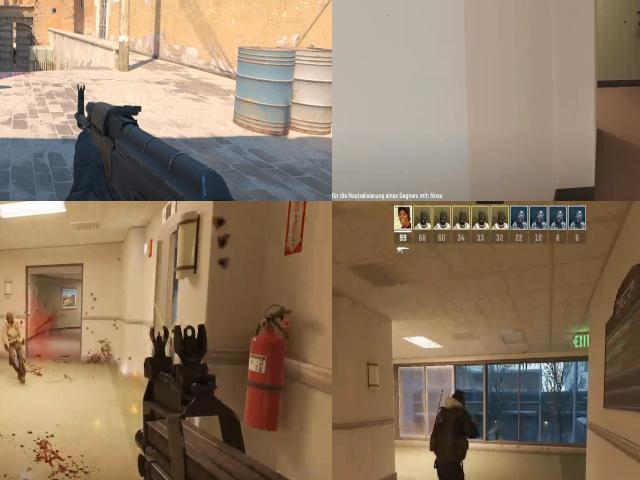CT: (425, 371, 479, 480), (14, 47, 16, 64)
CT-Head: (440, 386, 470, 418), (13, 47, 14, 49)
Dead: (0, 305, 31, 377)
